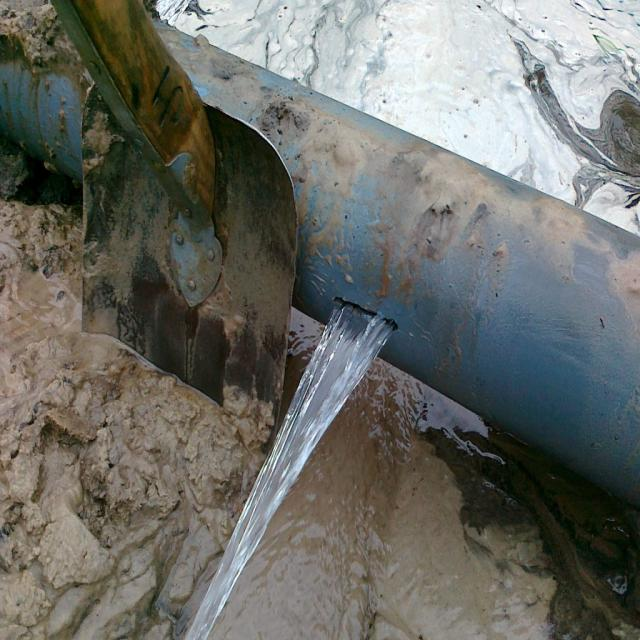leak: (178, 294, 404, 640)
